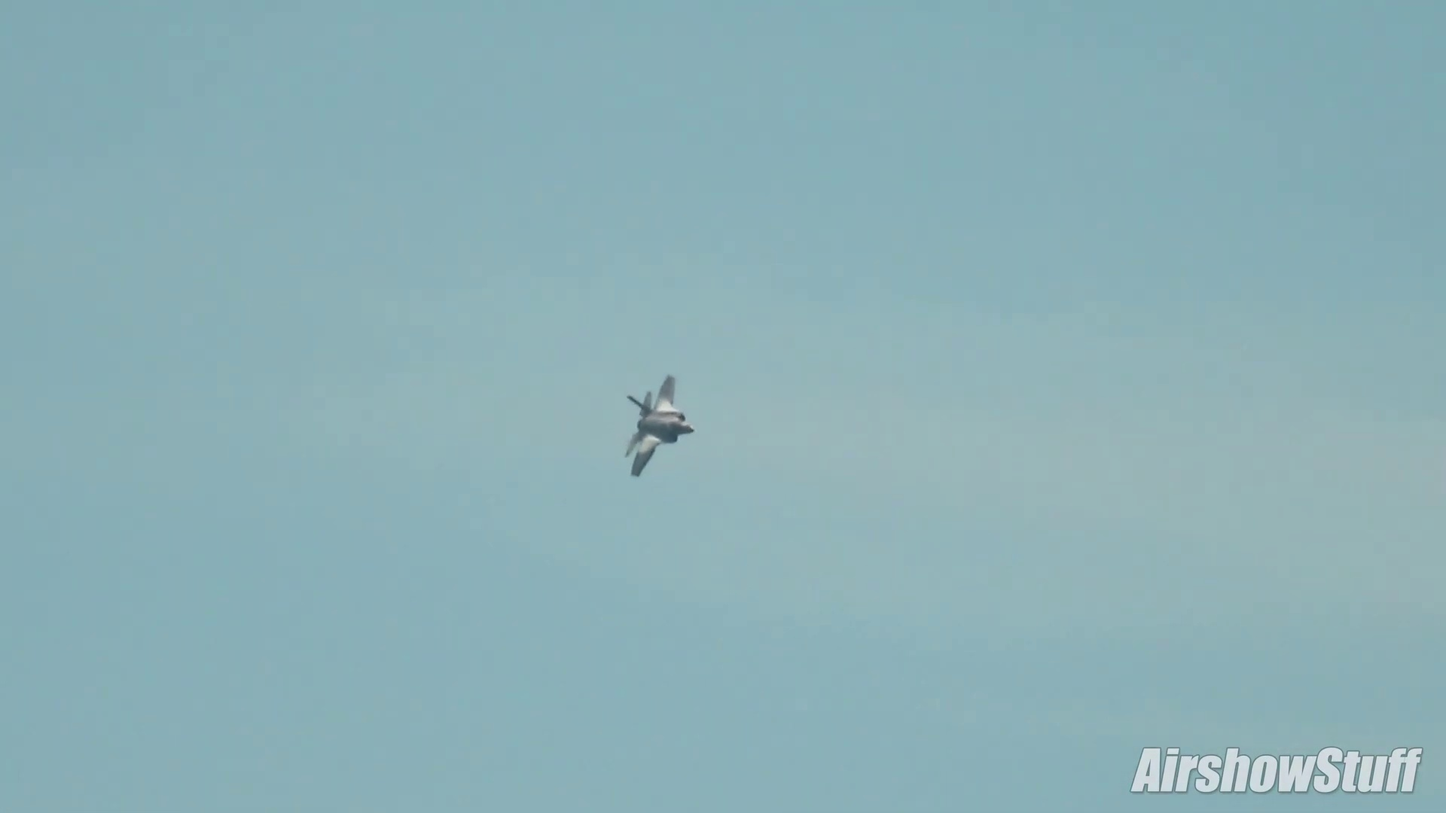F35: (613, 366, 703, 490)
